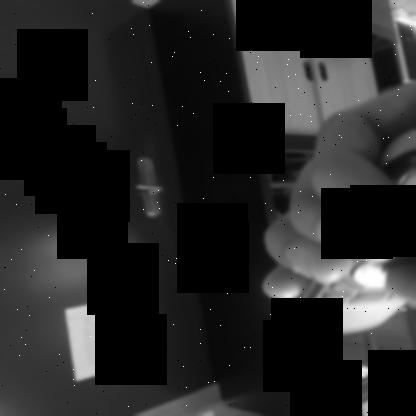Porte: (0, 1, 219, 415)
